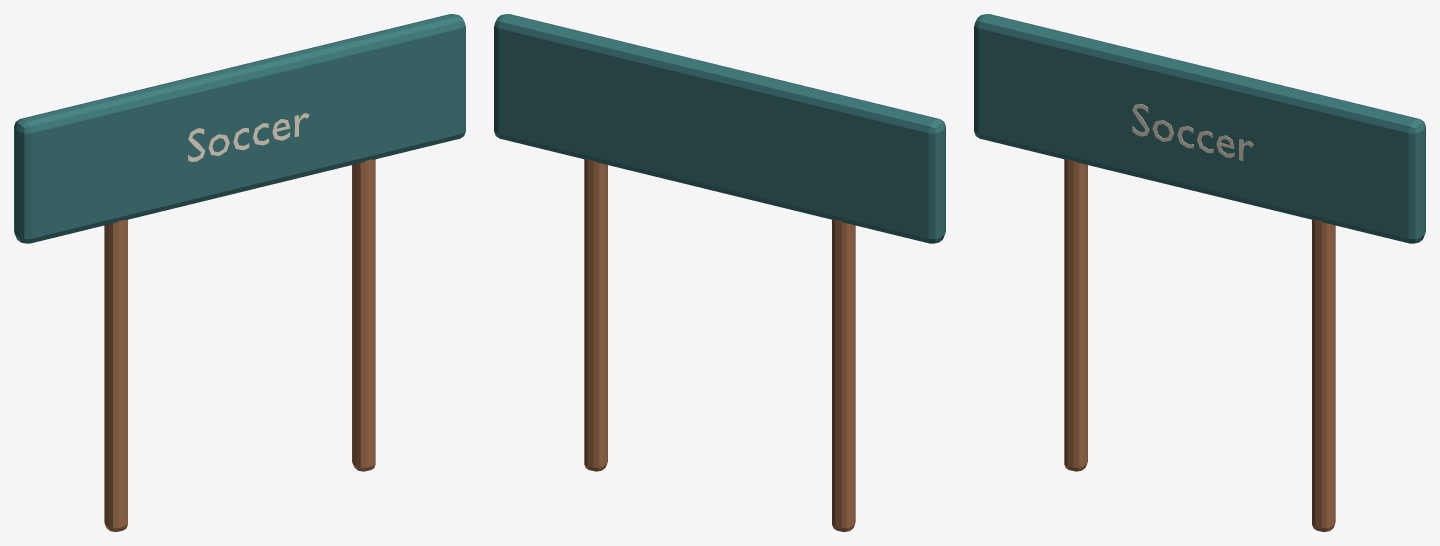
File: soccer_sign.glb
3 views of the same model, side by side, from view 1: azimuth 30°, elevation 25°; view 2: azimuth 150°, elevation 25°; view 3: azimuth 330°, elevation 25° (orthographic).
Visible parts, largest first — view 1: soccer_sign_Mesh; view 2: soccer_sign_Mesh; view 3: soccer_sign_Mesh.
Part boxes in pixels (x1=…): soccer_sign_Mesh: x1=14, y1=14, x2=465, y2=531; soccer_sign_Mesh: x1=494, y1=14, x2=945, y2=531; soccer_sign_Mesh: x1=974, y1=14, x2=1425, y2=531.
Bounding box in the file's own units: 1.8 × 1.66 × 0.101.
